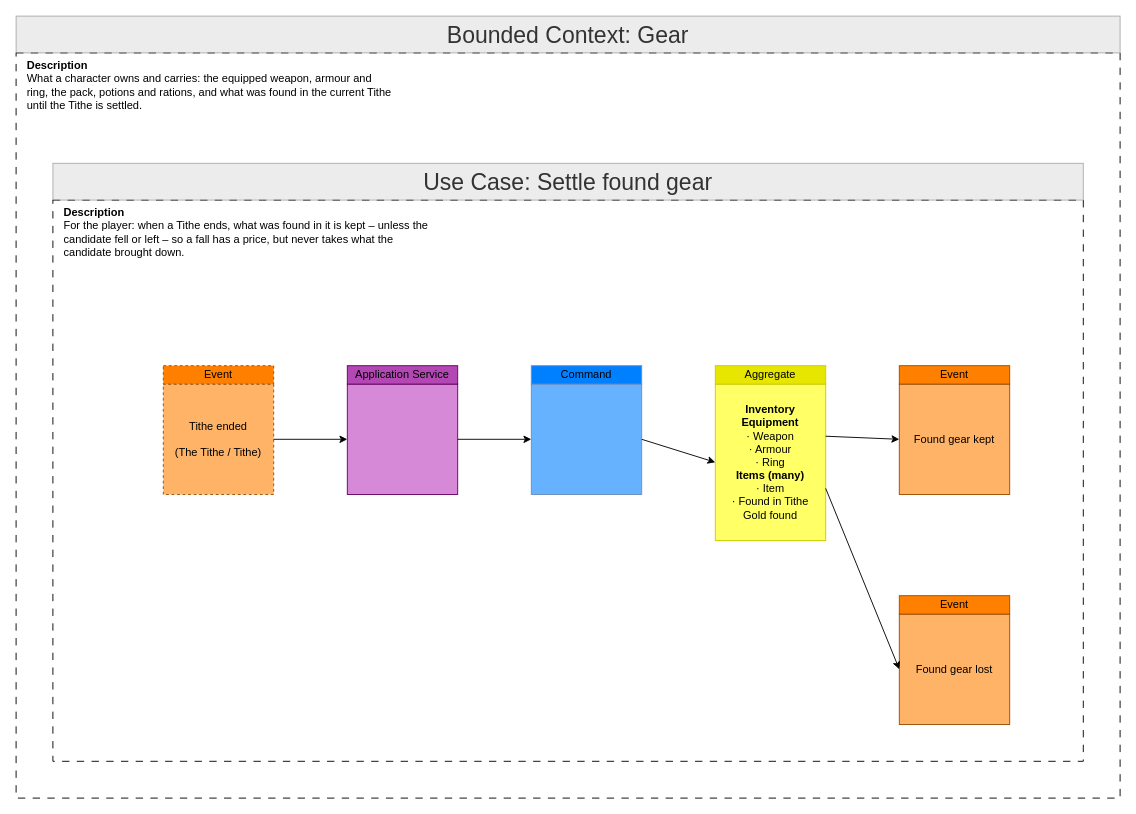
Some shapes in this 1136 by 814 pixel diagram are drawn without their labels. Each missing label, with the centre of its shape:
"Quartermaster" goes at pixel 402 438.
"Settle found gear Outcome" goes at pixel 586 438.
